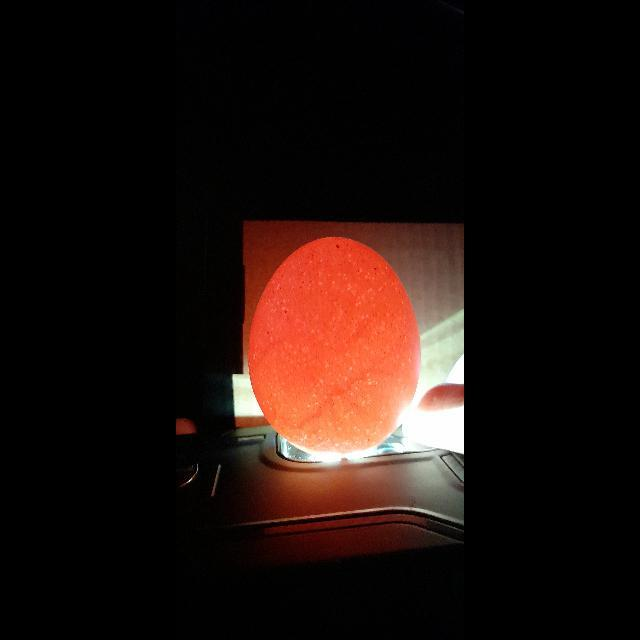Fertile: (245, 234, 422, 461)
